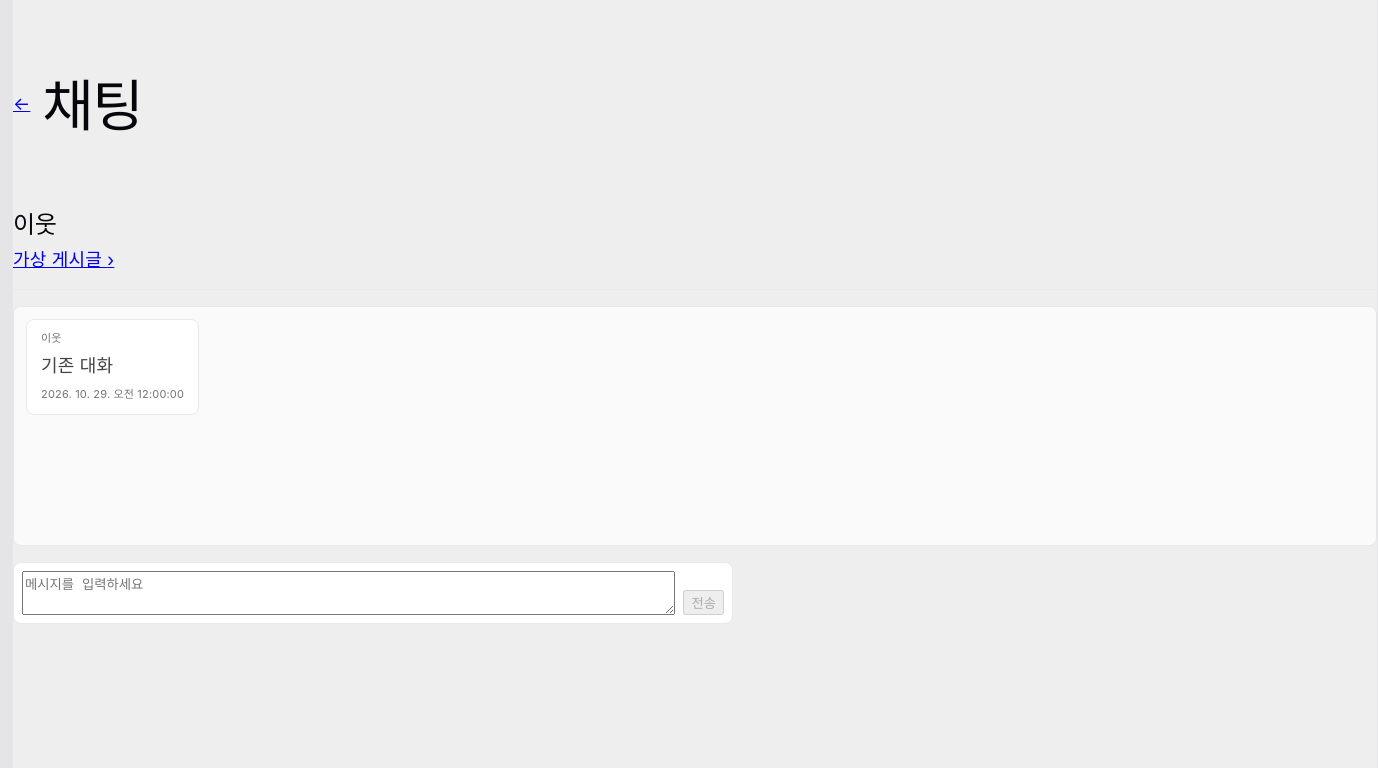
it: 채팅 전송 › 전송 중 네트워크 오류가 나면 초안과 이해 가능한 오류를 유지한다
The width and height of the screenshot is (1378, 768).
Expected: the text "기존 대화" is shown, [41, 355, 113, 376]
Step 1. Type "지워지면 안 되는 초안" into the text box labelled "메시지" → coordinates (349, 593), box [22, 571, 676, 615]
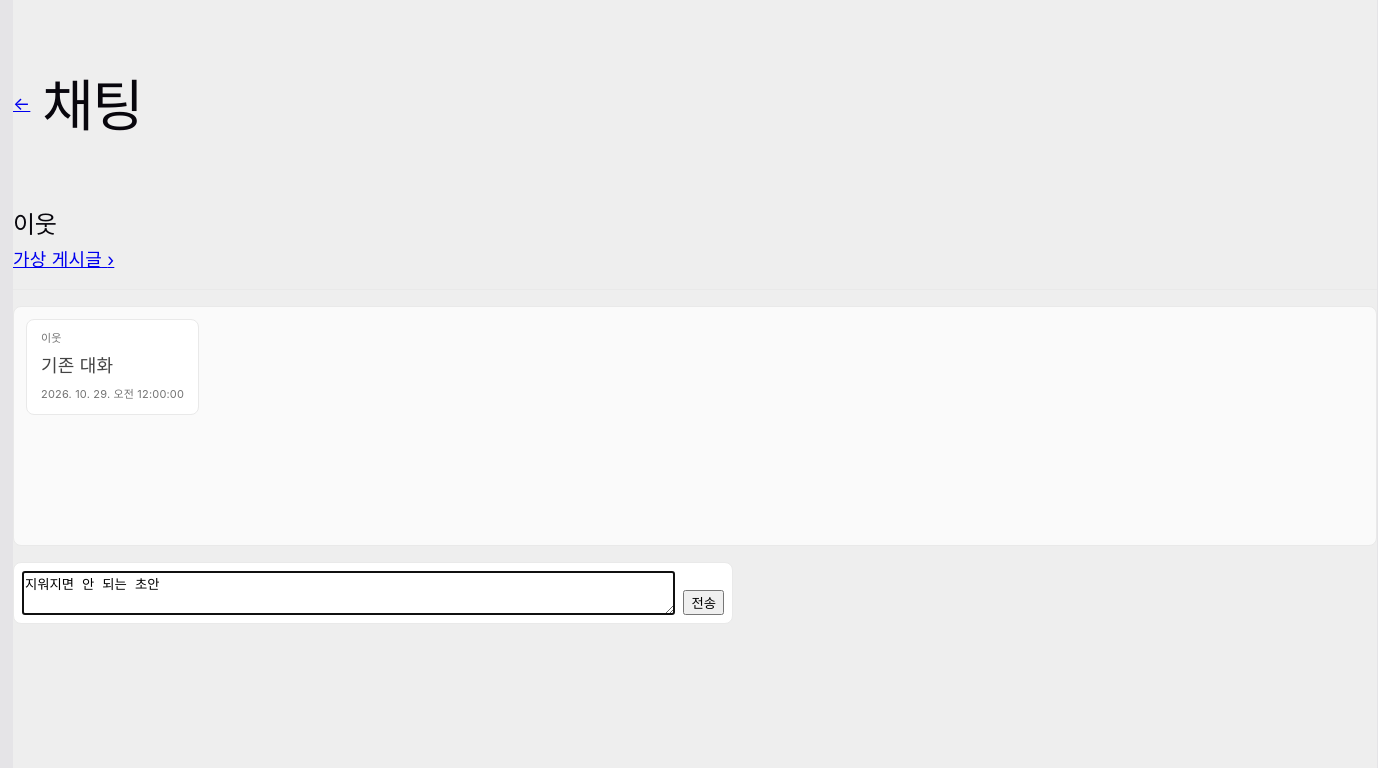
Step 2. Click the button "전송" → coordinates (704, 602), box [684, 590, 724, 615]
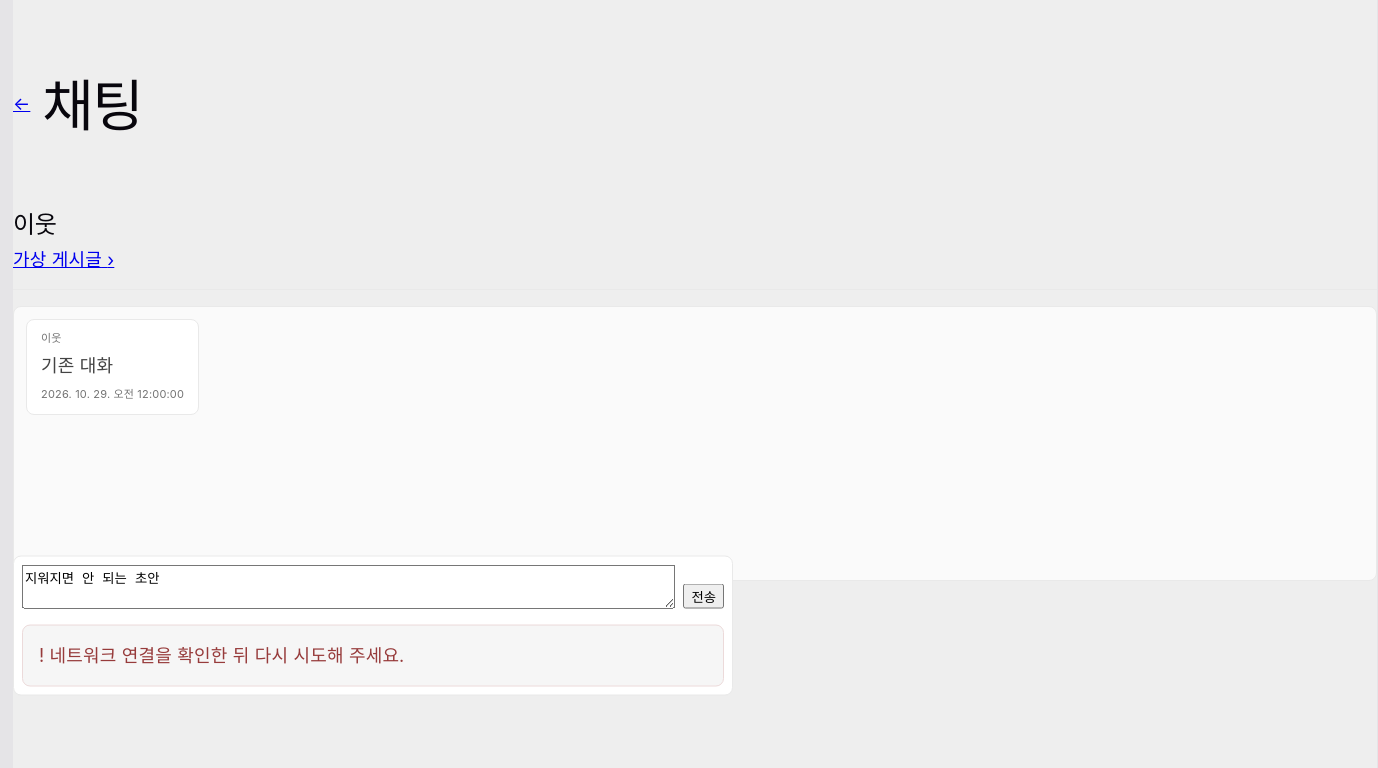
Expected: the text box named "메시지" is enabled, [22, 564, 676, 608]
Now the message "! 네트워크 연결을 확인한 뒤 다시 시도해 주세요." is shown, box [22, 624, 724, 687]
